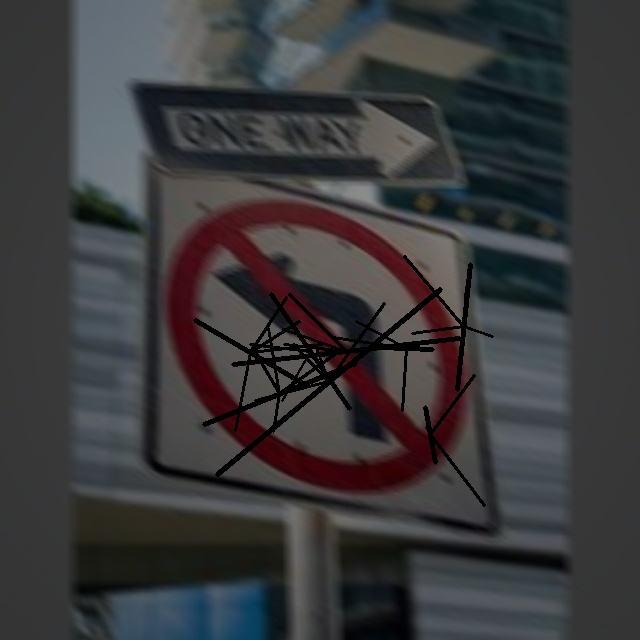Left_Turn_Prohibited: (163, 178, 475, 500)
